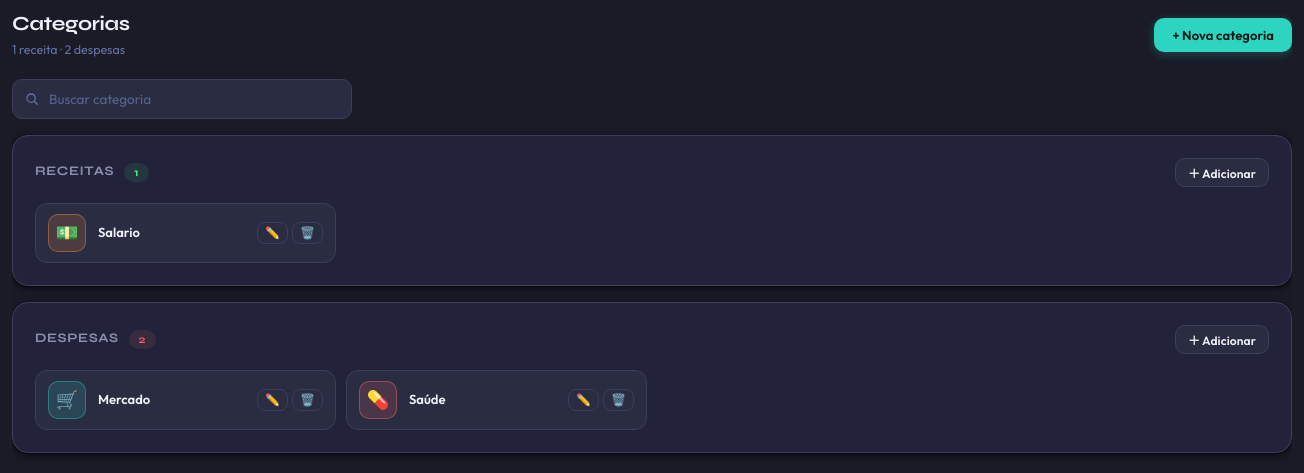
Test: CategoriesView search › filters both groups ignoring case and accents, and counts what it found
Type "SAUDE" into the search field labelled "Buscar categoria" at (182, 99), box x1=12 y1=79 x2=352 y2=119
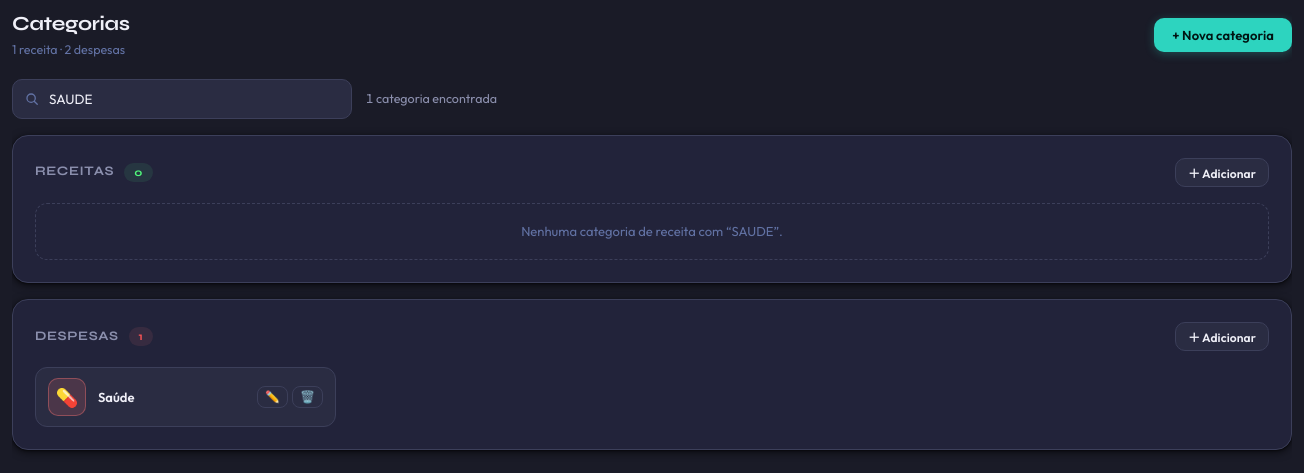
Check: the text "Mercado" is gone
Check: the text "1 categoria encontrada" is shown, box x1=366 y1=89 x2=497 y2=108
Check: the text "Nenhuma categoria de receita com “SAUDE”." is shown, box x1=35 y1=203 x2=1269 y2=260
